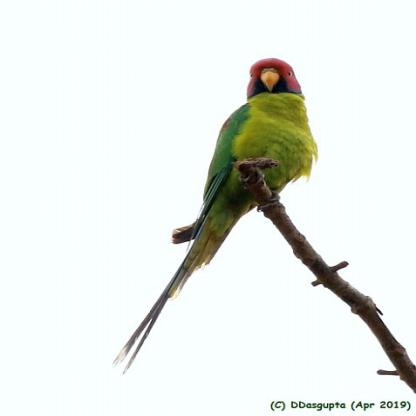Burung: (113, 57, 318, 372)
